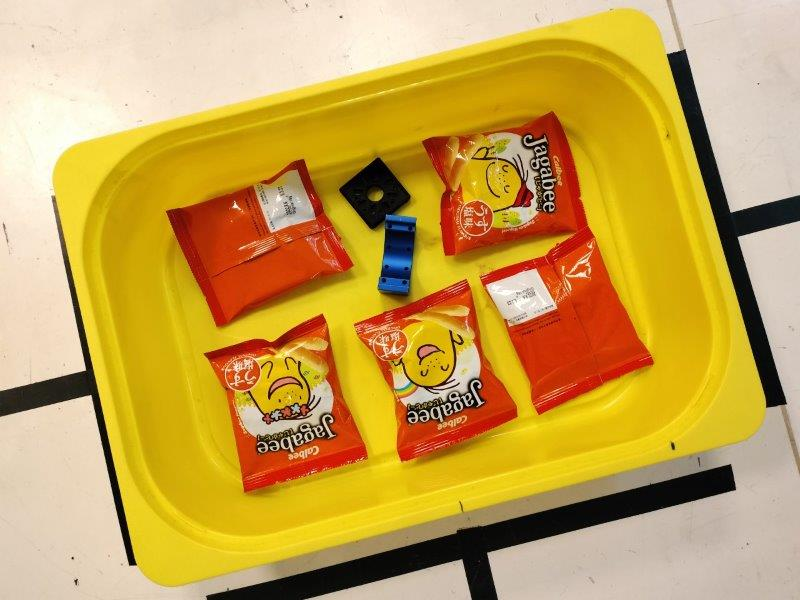Jagabee: (481, 230, 654, 414), (168, 160, 354, 325), (355, 280, 520, 463), (203, 313, 368, 494), (420, 111, 589, 255)
